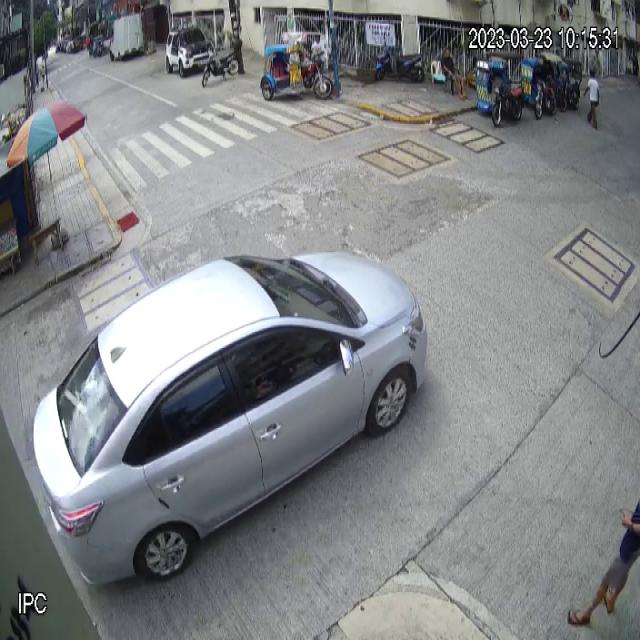Car: (31, 248, 429, 597)
Tricycle: (260, 30, 334, 102), (475, 50, 525, 128)
